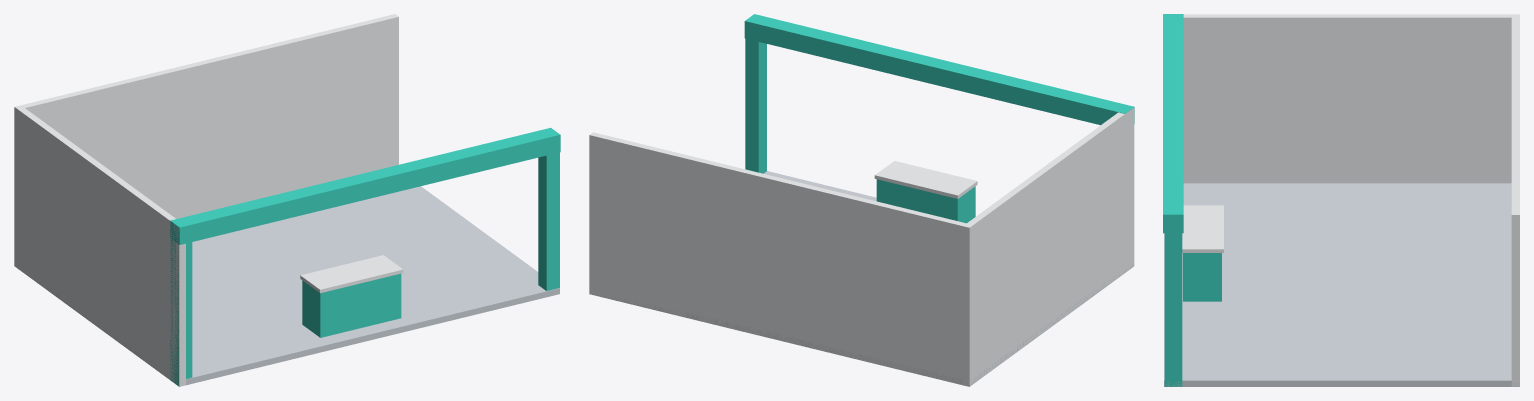
3 renders of one model, left to right at view 1: azimuth 30°, elevation 25°; view 2: azimuth 150°, elevation 25°; view 3: azimuth 270°, elevation 25°, orthographic. The views are drawn at different scales.
Visible parts, largest first — view 1: Exhibition Booth Concept; view 2: Exhibition Booth Concept; view 3: Exhibition Booth Concept.
Part boxes in pixels (<box>): Exhibition Booth Concept: <box>14,14,560,386</box>; Exhibition Booth Concept: <box>589,14,1134,386</box>; Exhibition Booth Concept: <box>1163,14,1519,386</box>.
Size of the model in its own units: 8 by 3.2 by 6.02.
